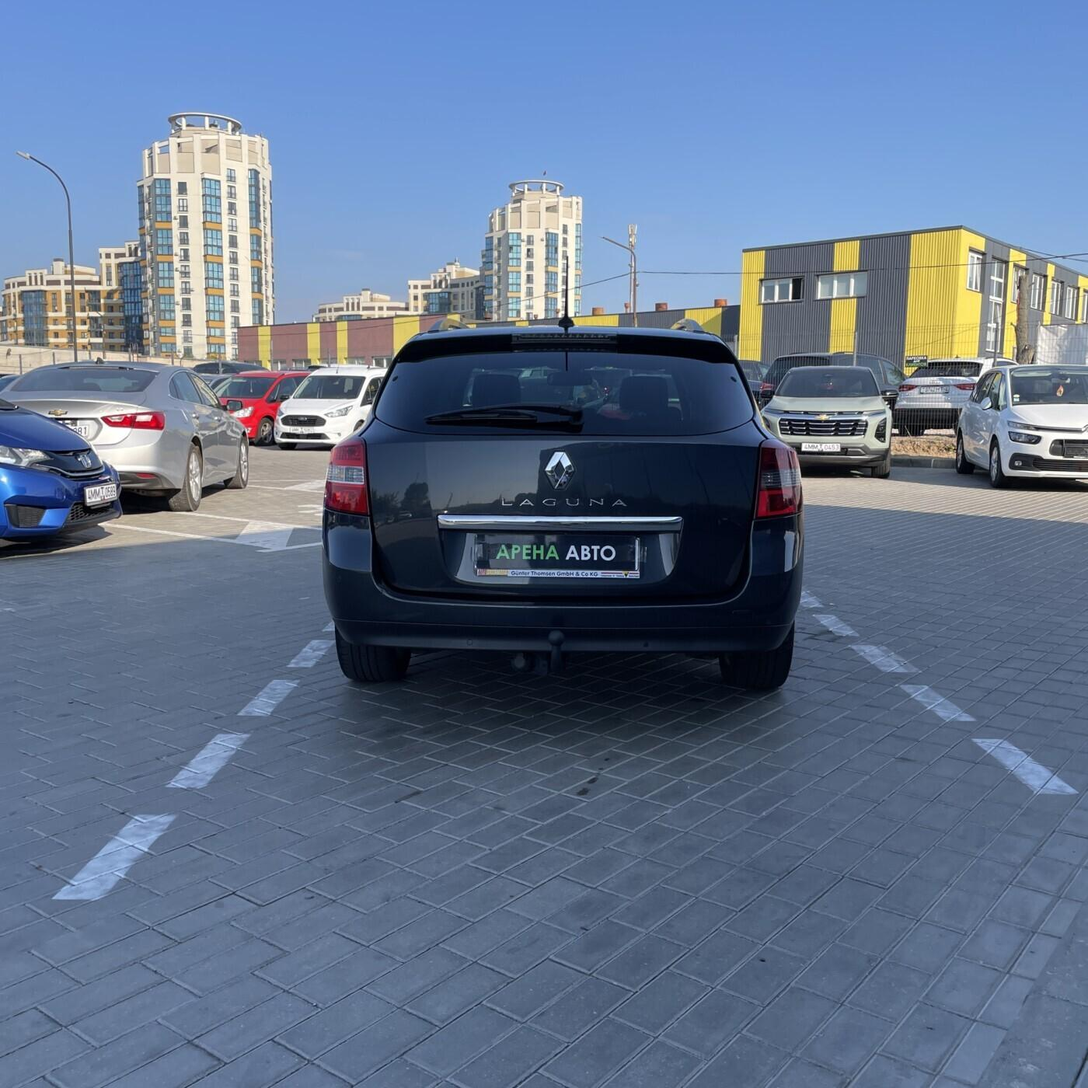Laguna_2010-2015: (312, 316, 811, 726)
